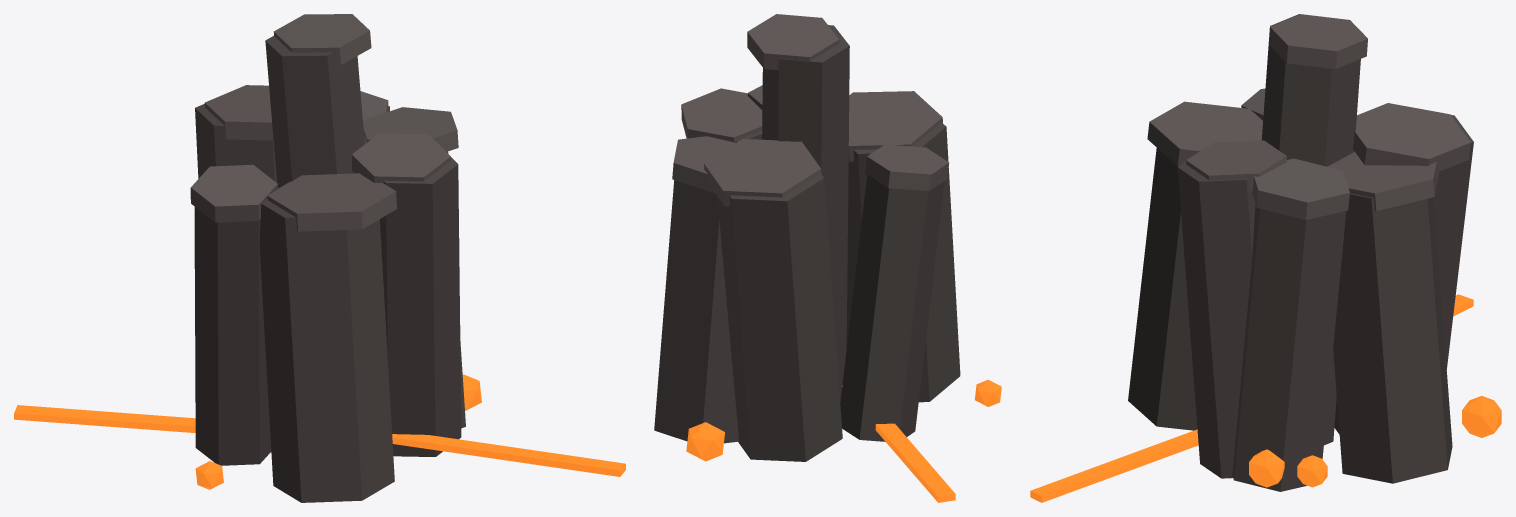
File: runtime.glb
3 views of the same model, side by side, from view 1: azimuth 30°, elevation 25°; view 2: azimuth 150°, elevation 25°; view 3: azimuth 270°, elevation 25° (orthographic). The views are drawn at different scales.
Parts seen in each view (by area): view 1: magma_outcrop_basalt_nocol, magma_outcrop_cap_noshadow_nocol, magma_outcrop_lava_noshadow_nocol; view 2: magma_outcrop_basalt_nocol, magma_outcrop_cap_noshadow_nocol, magma_outcrop_lava_noshadow_nocol; view 3: magma_outcrop_basalt_nocol, magma_outcrop_cap_noshadow_nocol, magma_outcrop_lava_noshadow_nocol.
Part boxes in pixels (bbox=[...]): magma_outcrop_basalt_nocol: bbox=[194, 36, 465, 502]; magma_outcrop_cap_noshadow_nocol: bbox=[190, 14, 458, 231]; magma_outcrop_lava_noshadow_nocol: bbox=[14, 374, 625, 489]; magma_outcrop_basalt_nocol: bbox=[654, 25, 960, 461]; magma_outcrop_cap_noshadow_nocol: bbox=[672, 14, 949, 206]; magma_outcrop_lava_noshadow_nocol: bbox=[686, 379, 1001, 502]; magma_outcrop_basalt_nocol: bbox=[1128, 14, 1473, 491]; magma_outcrop_cap_noshadow_nocol: bbox=[1147, 14, 1470, 219]; magma_outcrop_lava_noshadow_nocol: bbox=[1030, 294, 1501, 502].
Bounding box in the file's own units: 3.96 × 3.74 × 3.9.
